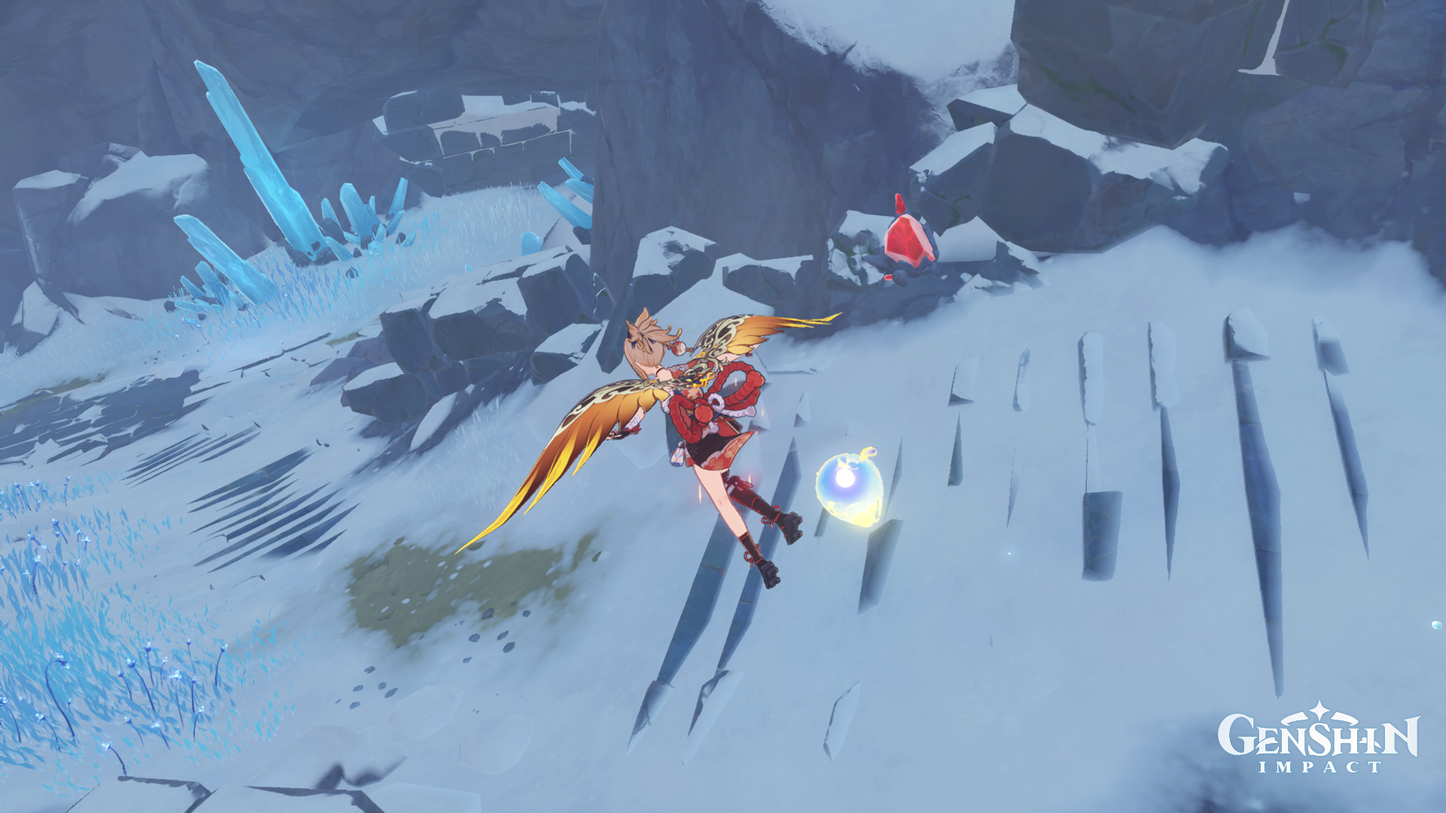Fairy: (813, 443, 890, 538)
Human: (620, 308, 807, 593)
Ore: (866, 195, 946, 287)
